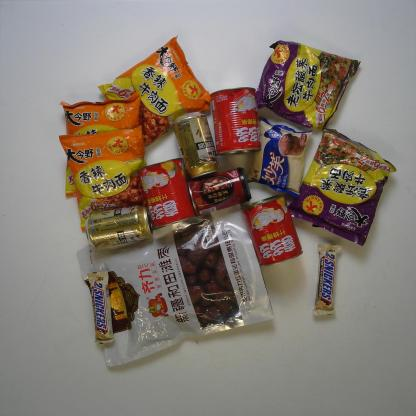Alcohol: (84, 203, 155, 252), (172, 111, 220, 181)
Canned Food: (239, 193, 306, 269), (138, 156, 198, 233), (209, 86, 262, 157), (186, 166, 252, 217)
Chocolate: (312, 241, 342, 318), (86, 269, 115, 345)
Dessert: (244, 116, 314, 199)
Dried Food: (76, 206, 275, 368)
Instant Noodles: (96, 34, 216, 156), (286, 126, 398, 246), (58, 122, 156, 232), (253, 39, 362, 131), (58, 92, 149, 198)
